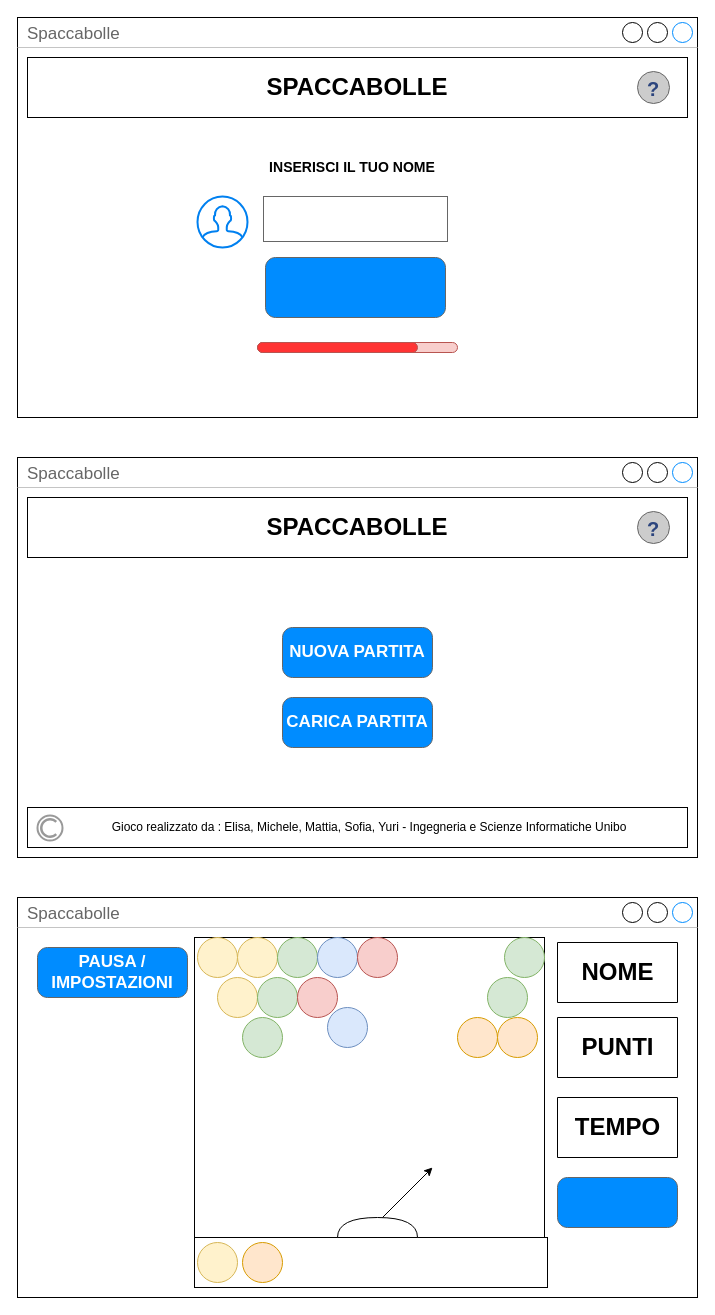
The diagram is 715 pixels wide and 1315 high, and some of its shapes have lost their labels. Each missing label, with the box of its shape:
GIOCA: (264, 256, 446, 318)
Nome Utente: (262, 196, 448, 242)
SALVA PARTITA: (556, 1176, 678, 1228)
